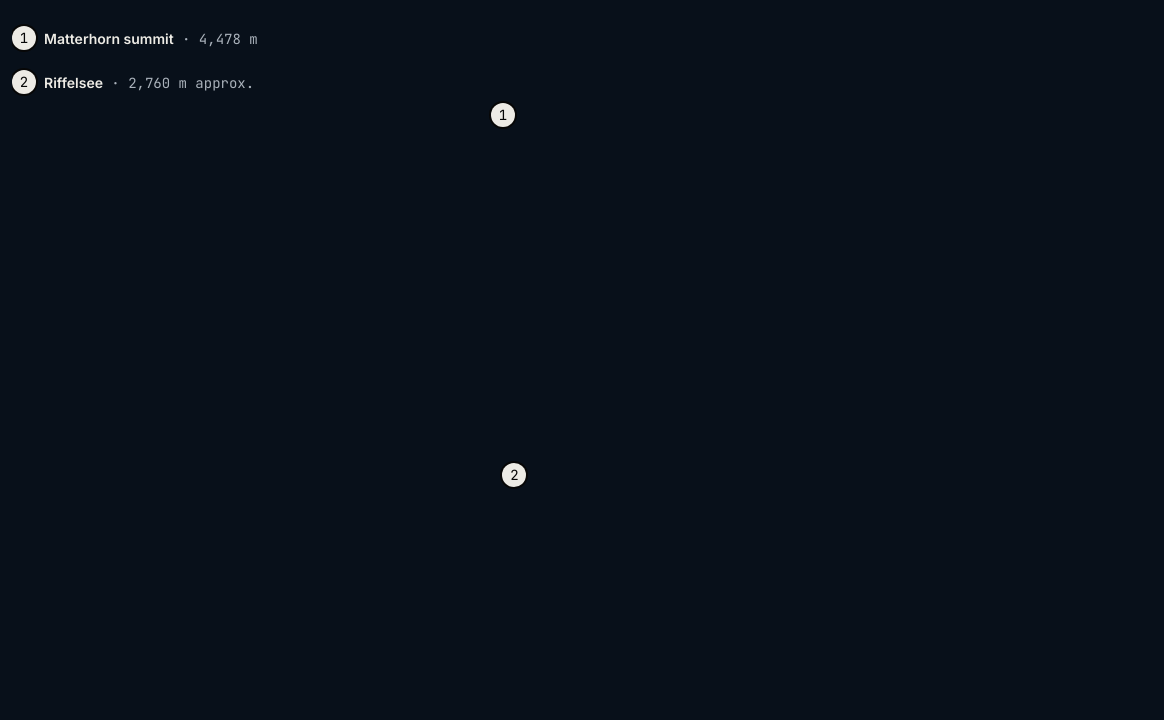
Test case: HotspotKey (D-11) › an annotation without facts expands to its description only (E7 partial)
The width and height of the screenshot is (1164, 720).
What coordinates should you click on to do the following:
click the button "1 Matterhorn summit · 4,478 m"
I would click on:
 (109, 38)
Its box is 12,16 -> 1154,60.
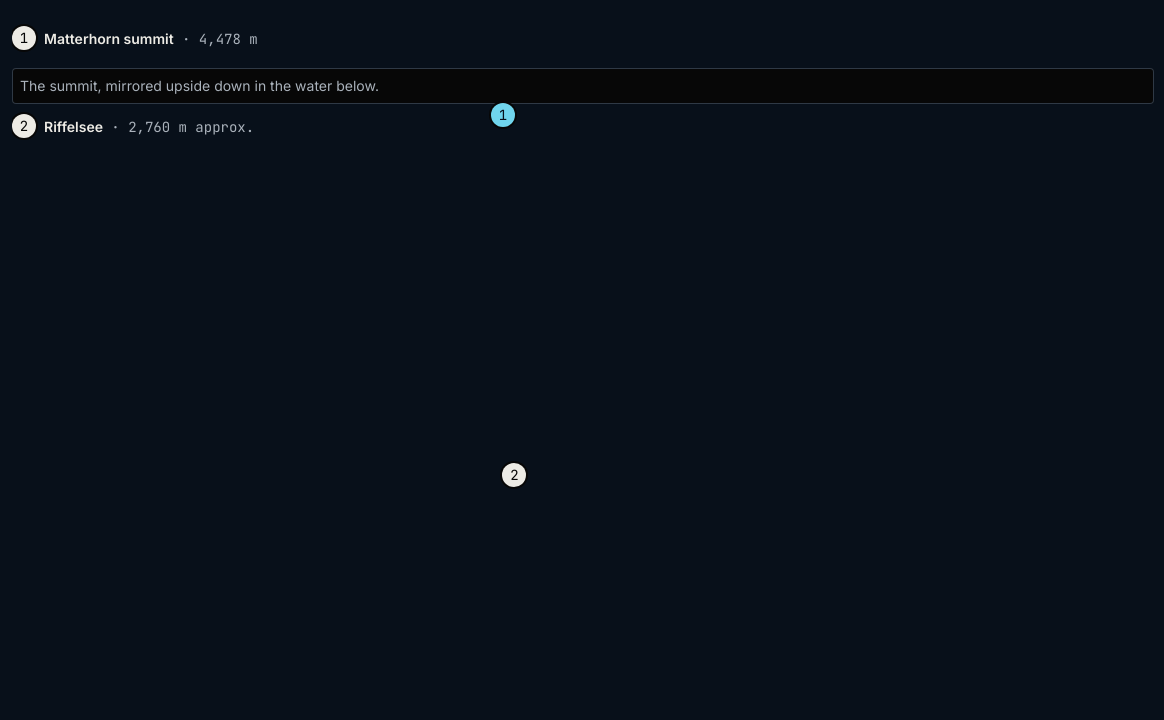
expect the element showing "The summit, mirrored upside down in the water below." is shown: met, box 12,68 -> 1154,104
